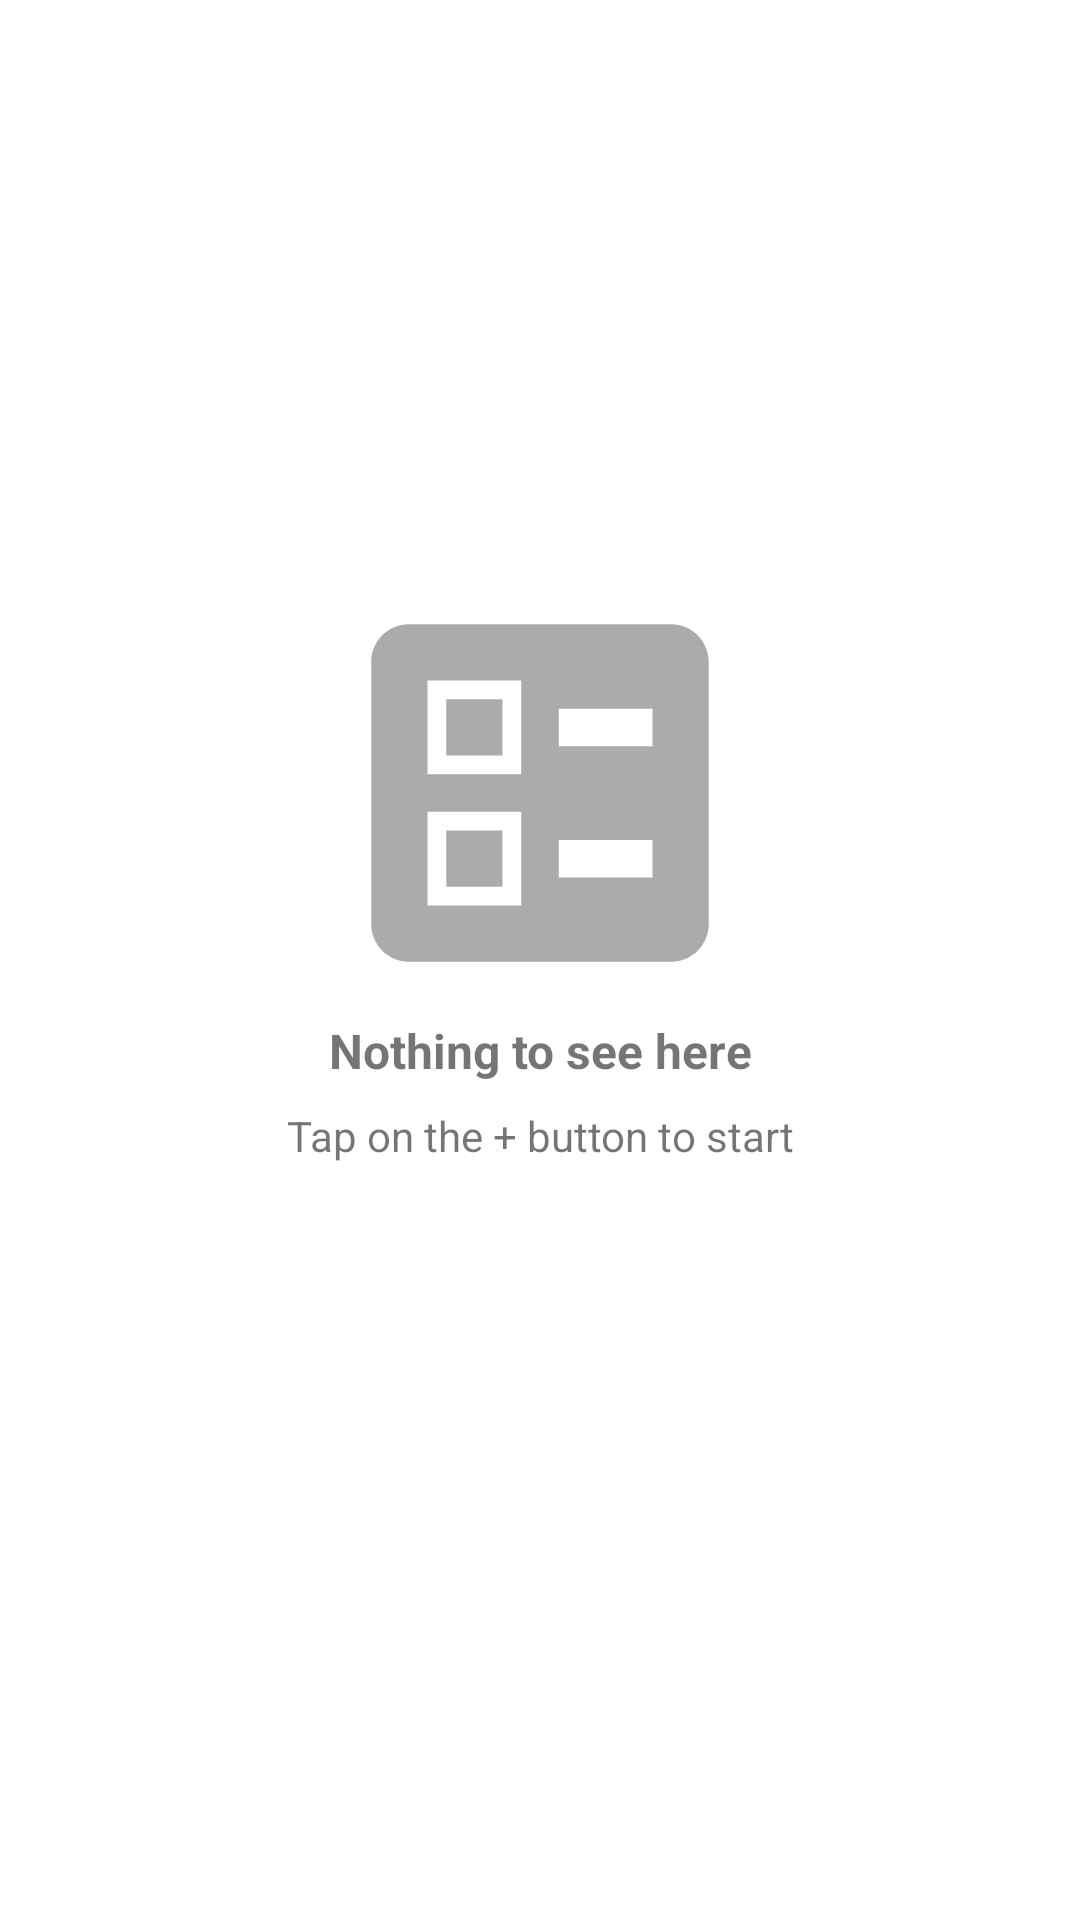

Where to tap for icons on this 1080 × 1920 app screen, as (x,y):
ballot: (540,793)
